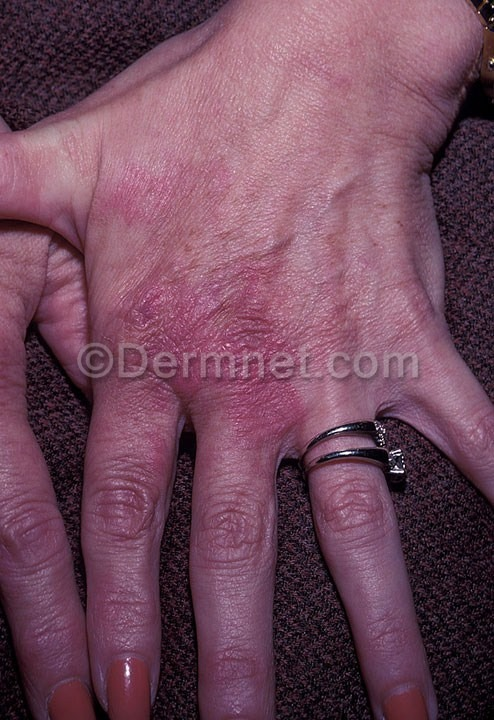Melasma: (92, 150, 340, 341), (94, 378, 302, 455)
